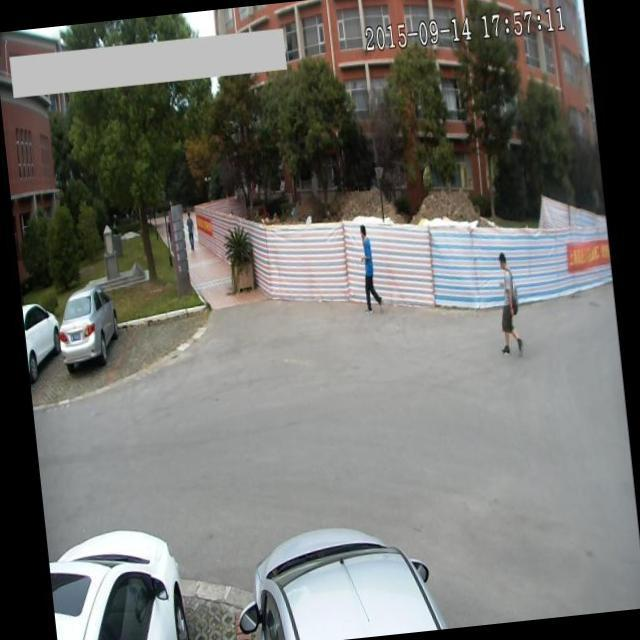person: (486, 245, 528, 362), (353, 220, 388, 318), (181, 205, 199, 258)
